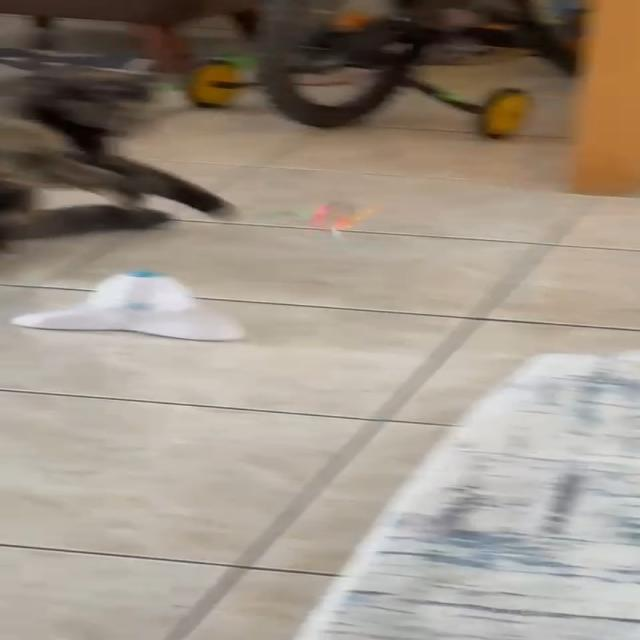authorized: (0, 48, 239, 252)
